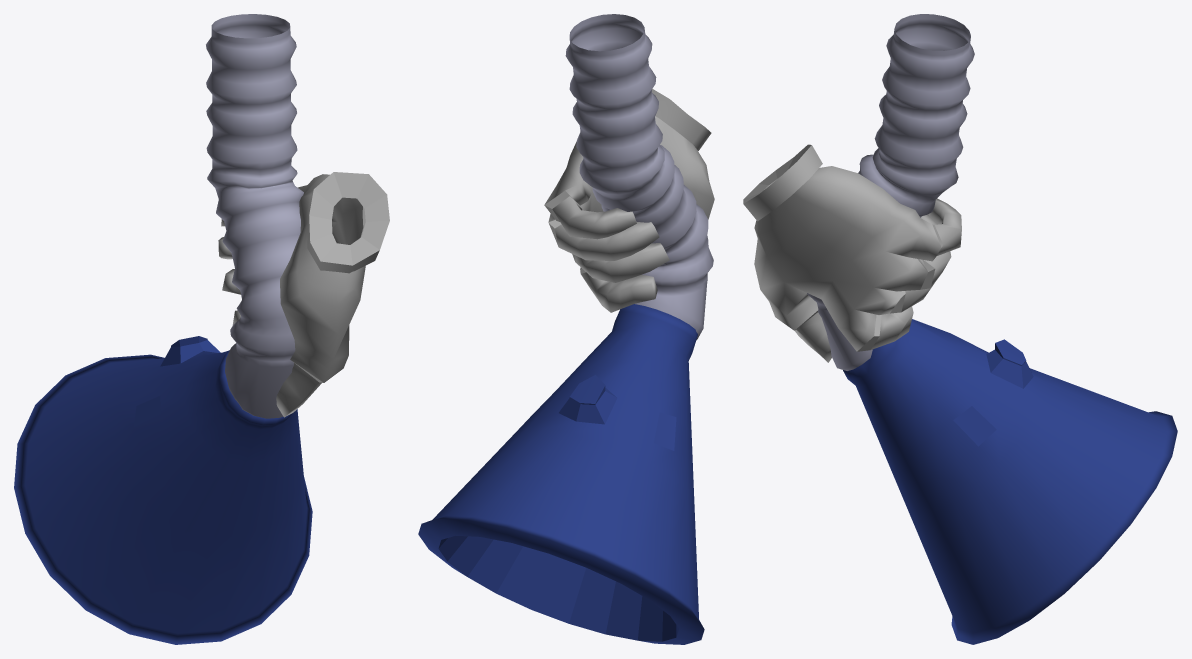
The model's file is hand_test.fbx.
3 views of the same model, side by side, from view 1: azimuth 30°, elevation 25°; view 2: azimuth 150°, elevation 25°; view 3: azimuth 270°, elevation 25° (orthographic). The views are drawn at different scales.
Visible parts, largest first — view 1: vacuum1, AnatomyHandHumanMale_hand_basemesh1; view 2: vacuum1, AnatomyHandHumanMale_hand_basemesh1; view 3: vacuum1, AnatomyHandHumanMale_hand_basemesh1.
Boxes of the visible parts, x1=… form: vacuum1: x1=14, y1=14, x2=312, y2=644; AnatomyHandHumanMale_hand_basemesh1: x1=218, y1=172, x2=389, y2=417; vacuum1: x1=418, y1=14, x2=713, y2=644; AnatomyHandHumanMale_hand_basemesh1: x1=544, y1=89, x2=714, y2=312; vacuum1: x1=807, y1=14, x2=1177, y2=644; AnatomyHandHumanMale_hand_basemesh1: x1=743, y1=144, x2=961, y2=362.
Size of the model in its own units: 25.19 by 54.15 by 35.19.
